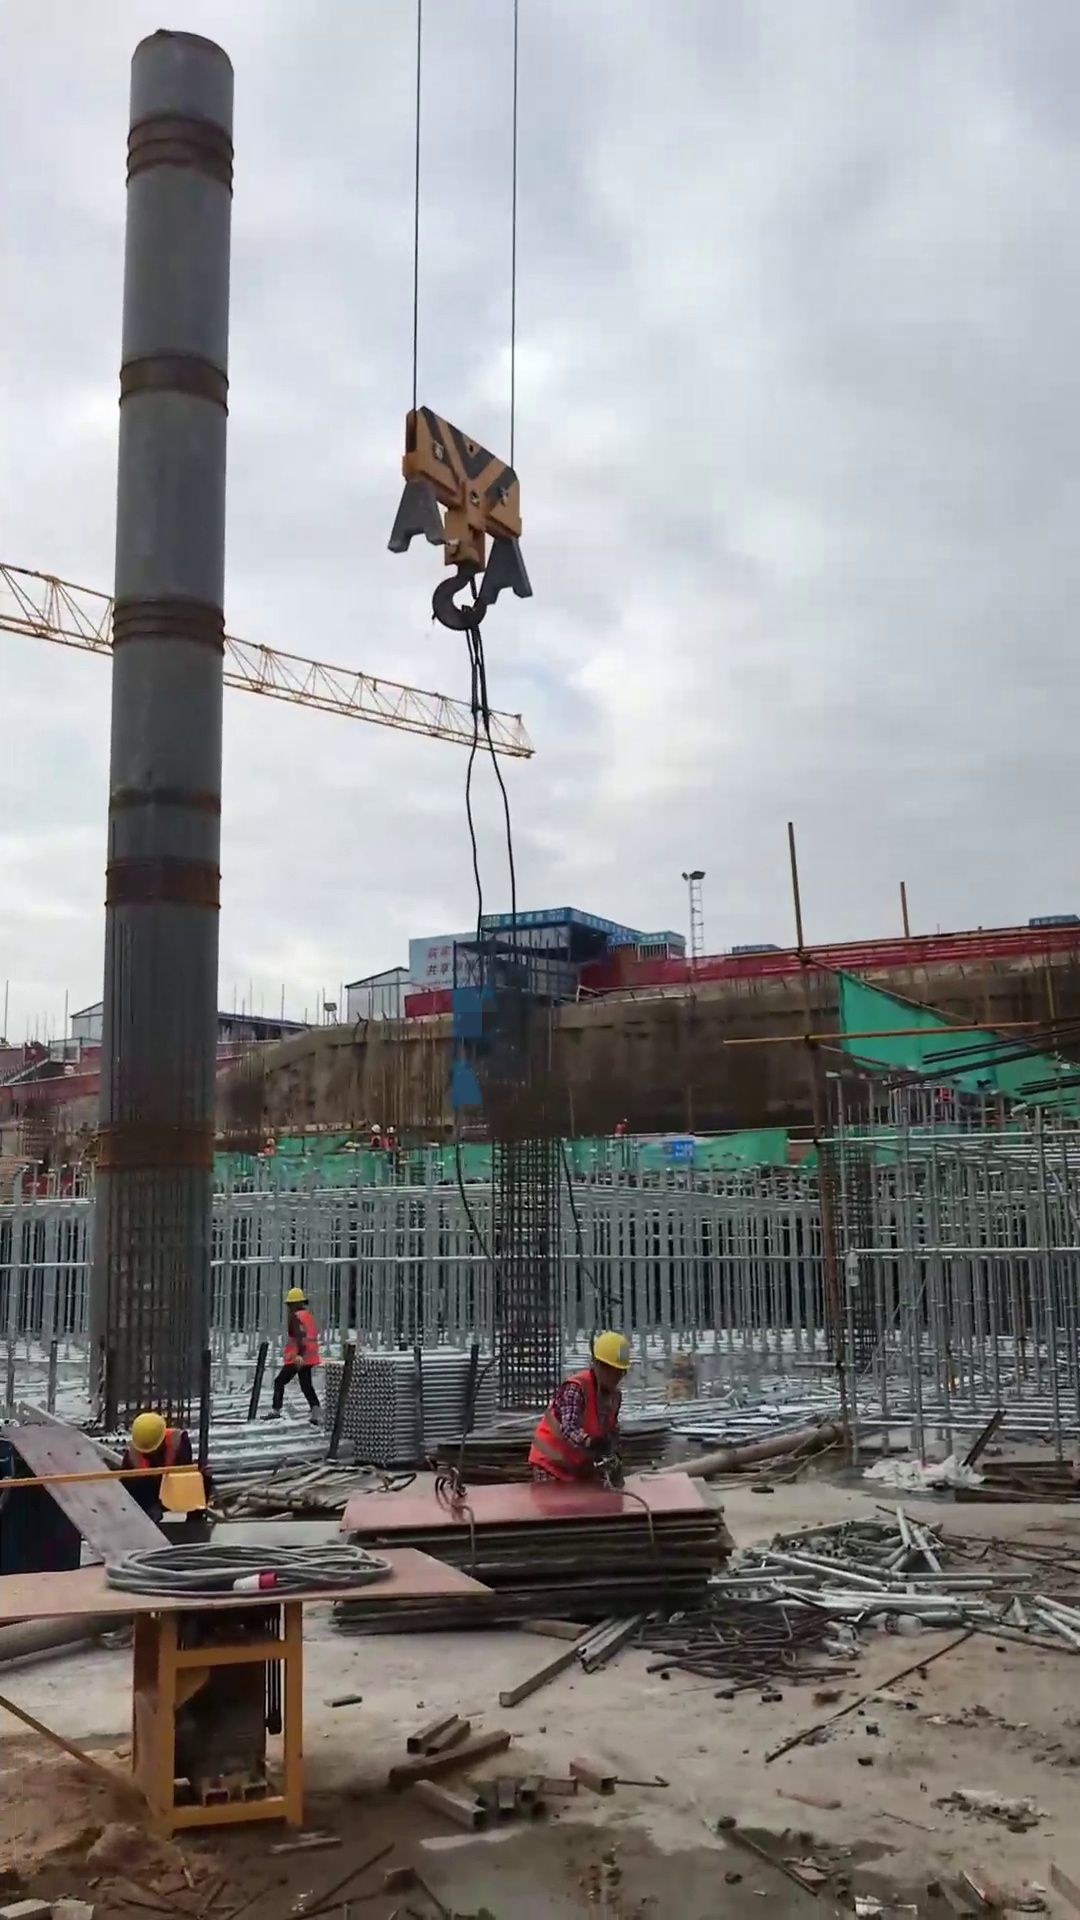board: (335, 1463, 743, 1633)
helmet: (591, 1326, 650, 1379), (134, 1407, 160, 1457), (277, 1287, 308, 1306)
hook: (382, 400, 534, 640)
person: (515, 1330, 637, 1494), (268, 1280, 331, 1423), (120, 1411, 203, 1492)
scaffold: (328, 1341, 515, 1465)
vest: (515, 1375, 623, 1490), (274, 1313, 326, 1371)
